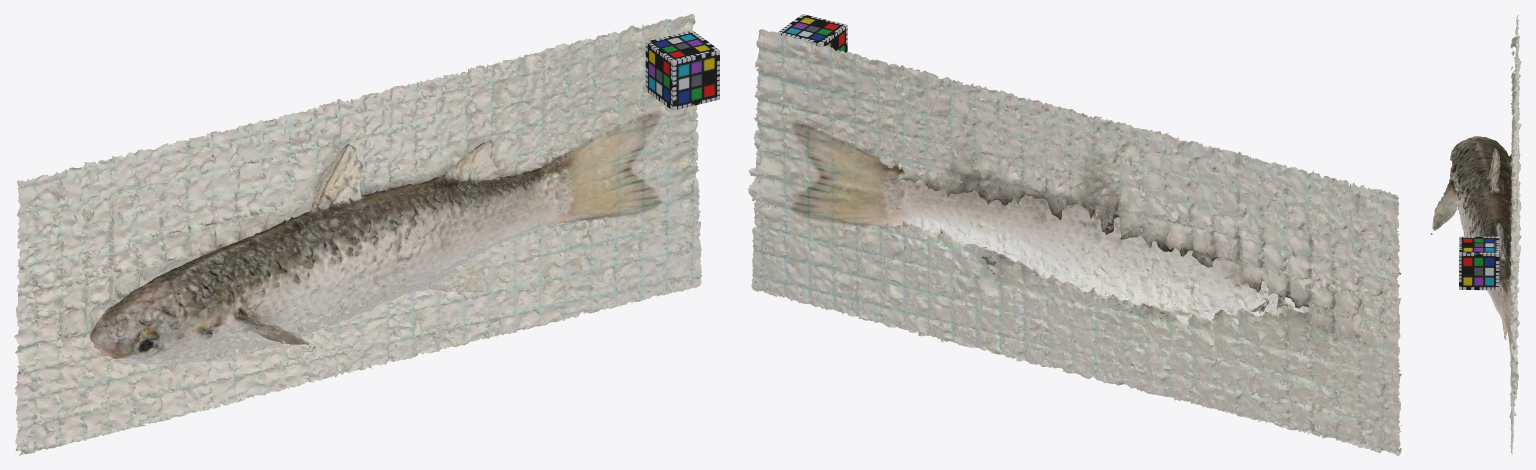
The model's file is scan_keelmullet.glb.
3 renders of one model, left to right at view 1: azimuth 30°, elevation 25°; view 2: azimuth 150°, elevation 25°; view 3: azimuth 270°, elevation 25°, orthographic. The views are drawn at different scales.
Parts seen in each view (by area): view 1: Object_6, Object_4; view 2: Object_6, Object_4; view 3: Object_6, Object_4.
Part boxes in pixels (x1,y1,x2,y2): Object_6: (14, 14, 701, 455); Object_4: (645, 30, 719, 110); Object_6: (748, 29, 1401, 455); Object_4: (777, 14, 847, 52); Object_6: (1430, 14, 1521, 454); Object_4: (1459, 236, 1499, 290).
Bounding box in the file's own units: 9.07 × 3.59 × 1.42.
2 materials, 2 textured.
